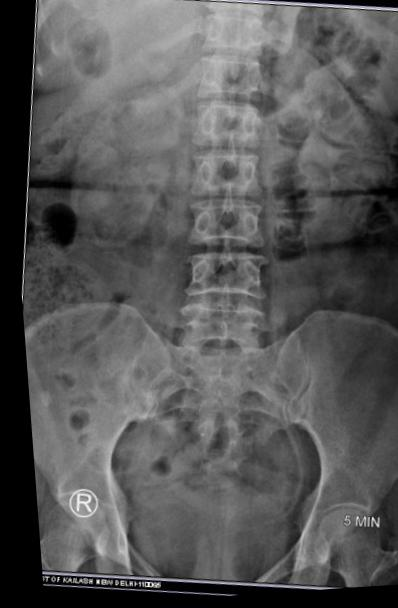vertebrae: (185, 100, 265, 159)
